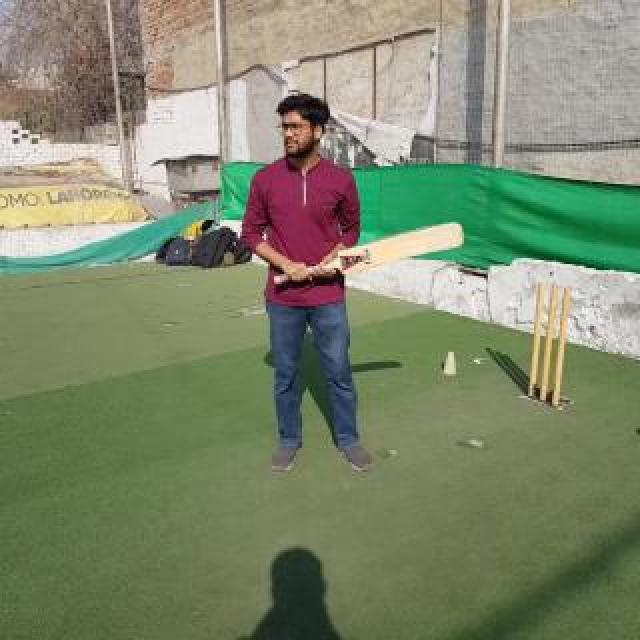bat: (274, 224, 464, 288)
